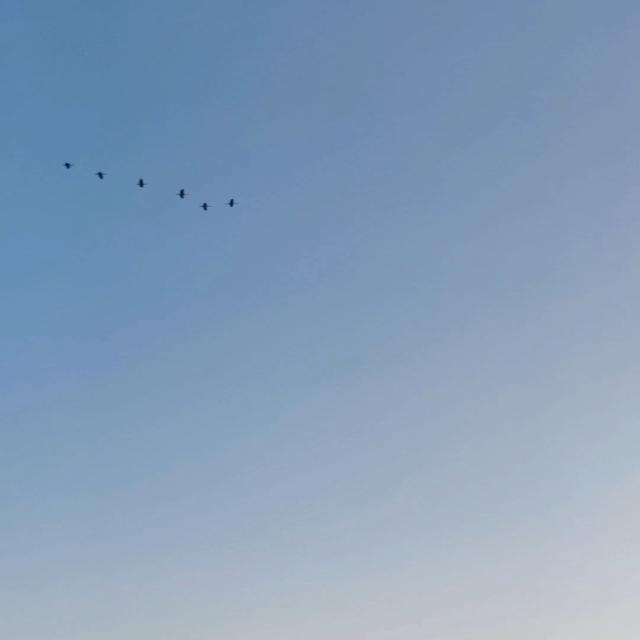bird: (173, 187, 190, 201), (197, 200, 214, 214), (134, 178, 152, 189), (61, 161, 76, 172), (224, 197, 239, 208), (94, 170, 107, 182)
